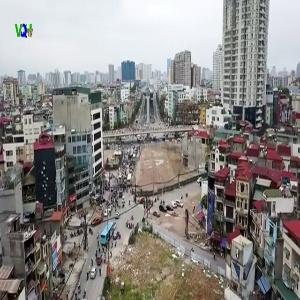drone: (234, 103, 291, 160)
